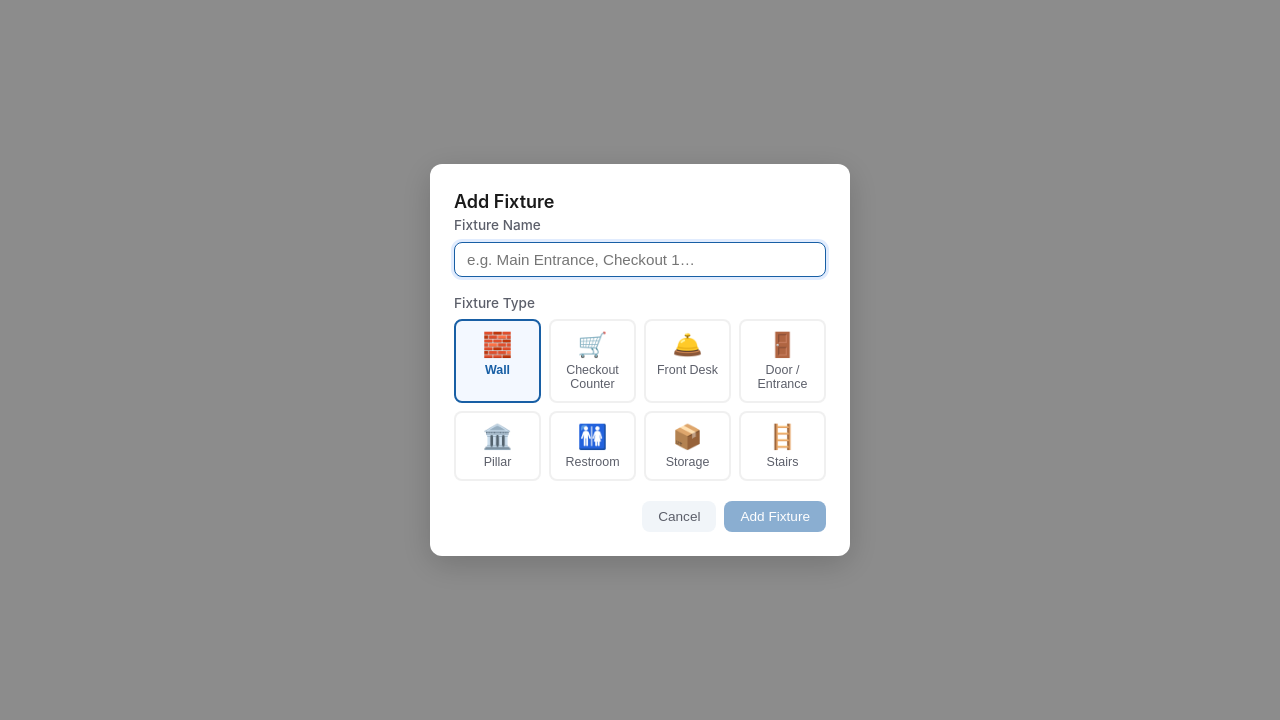
Test: FixtureNameModal › enables Add Fixture when name is entered
Type "Main Entrance" into the field labelled "Fixture Name".
click(640, 259); type("Main Entrance")  # box [454, 242, 826, 276]
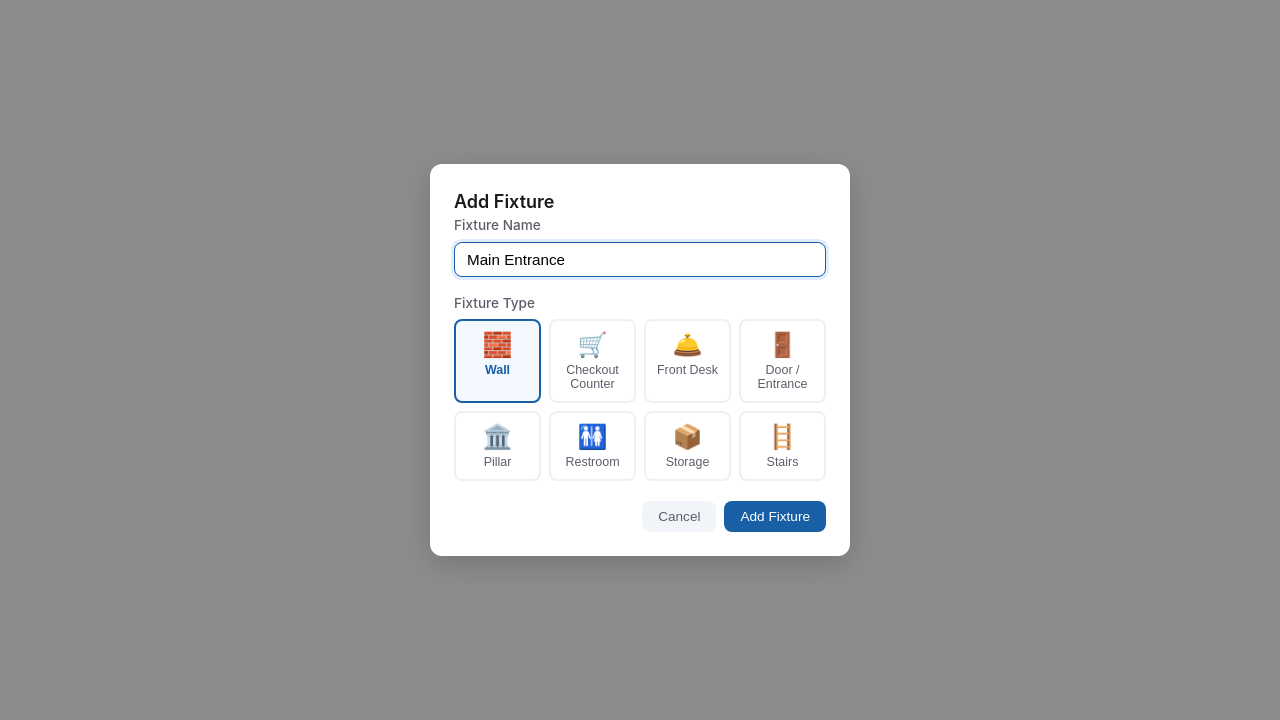
Check: the button "Add Fixture" is enabled, box [724, 501, 826, 532]
